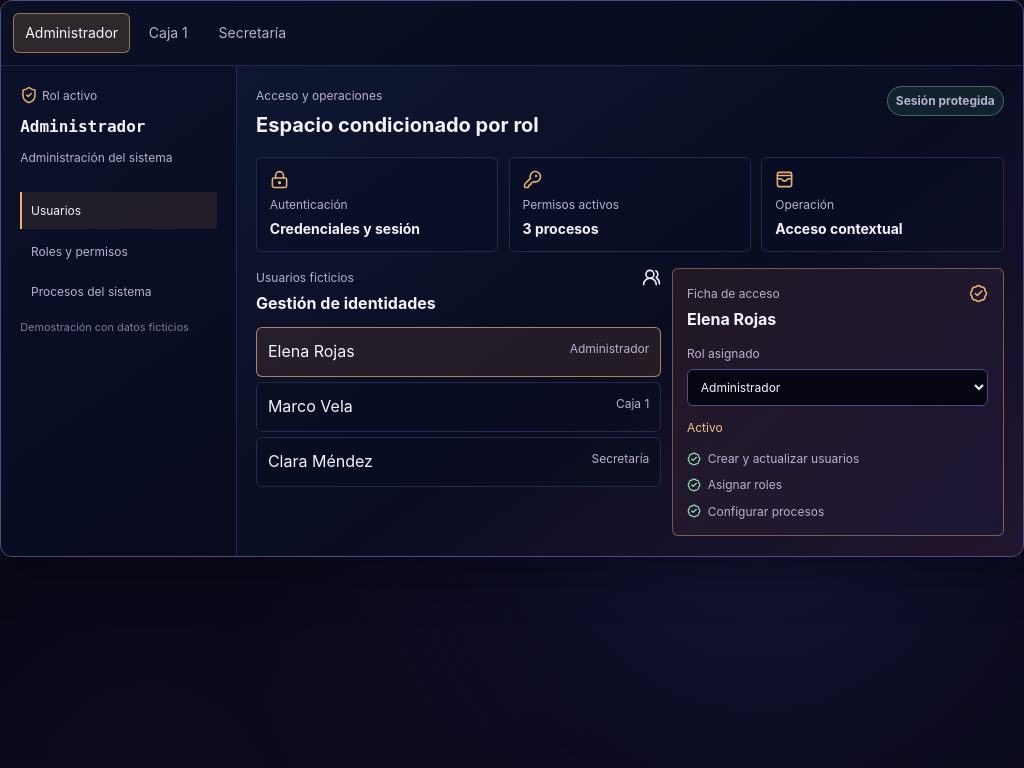
AccessOperationsDemo › changes a fictional user role through the access record
Click the button "Marco Vela Caja 1".
click(310, 406)  # box [256,382,661,432]
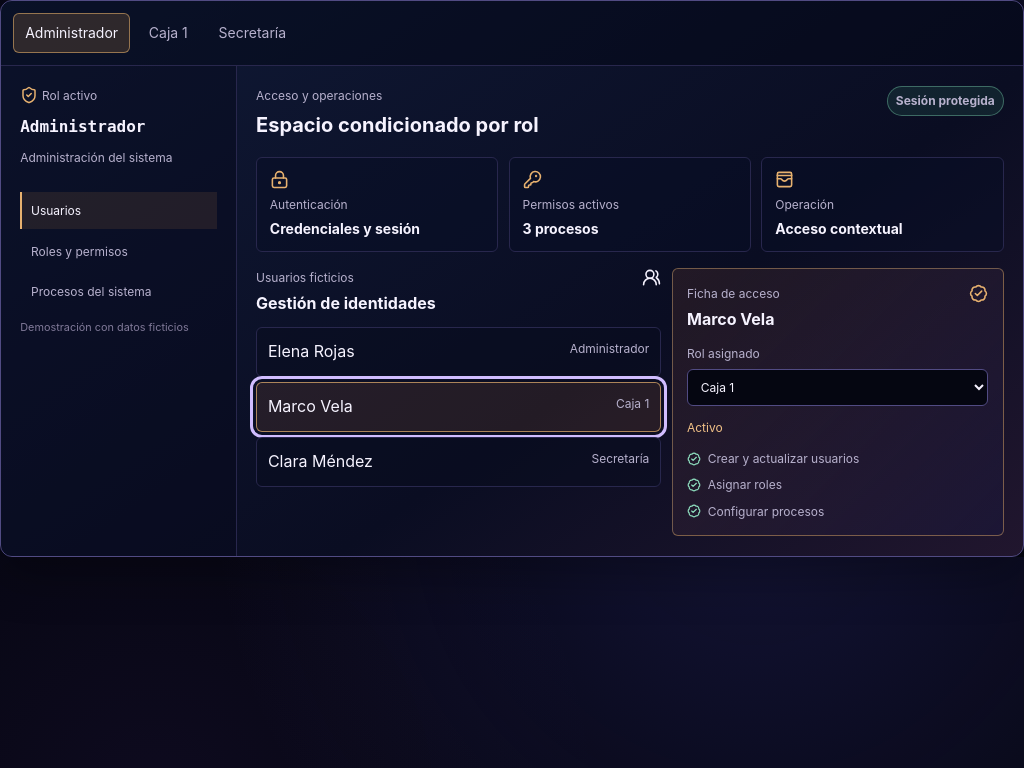
Select "Secretaría" in the dropdown named "Rol ficticio asignado" at (838, 388), box [687,369,988,406]
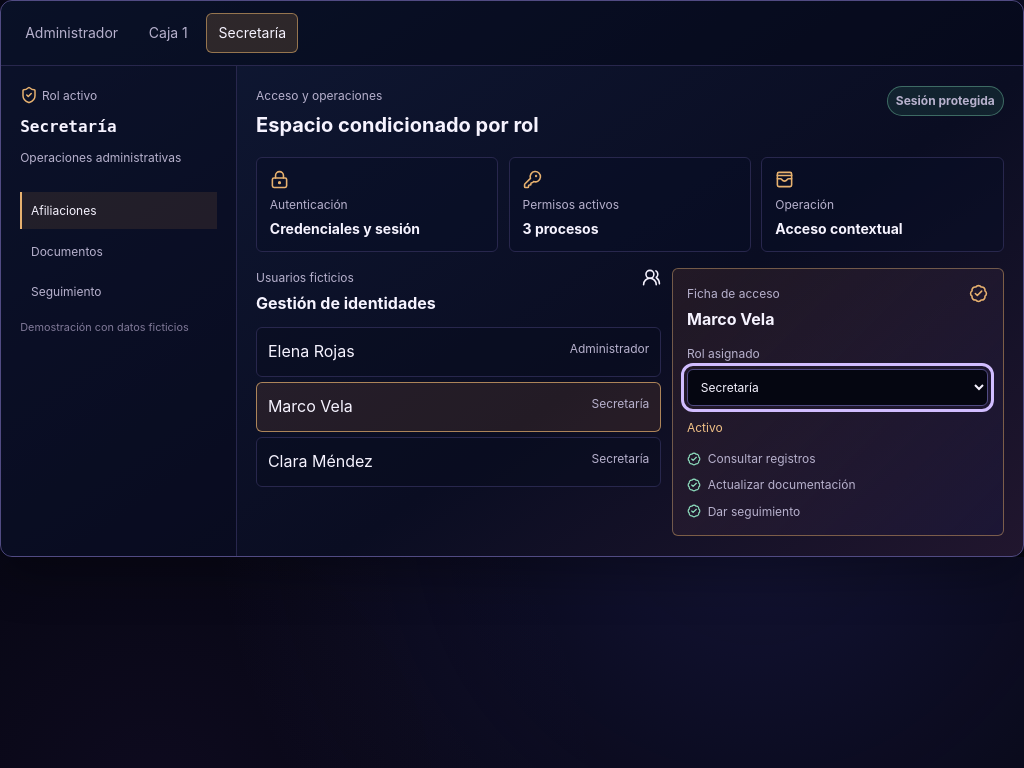
Now the button "Marco Vela Secretaría" is shown, box [256,382,661,432]
Now the navigation bar named "Fictional Secretaría menu" is shown, box [20,192,217,310]
